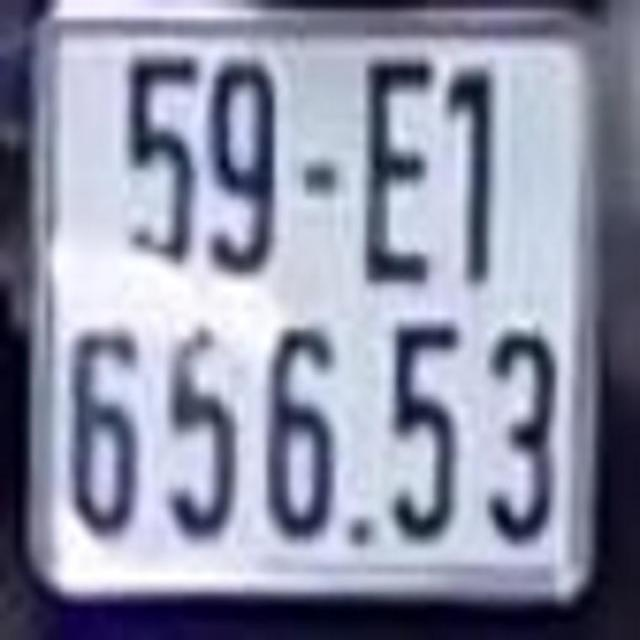1: (446, 65, 494, 282)
3: (487, 328, 556, 546)
5: (162, 323, 242, 535), (395, 319, 459, 539), (129, 50, 191, 265)
6: (262, 326, 338, 540), (69, 324, 139, 535)
9: (207, 58, 274, 277)
E: (363, 63, 432, 283)
